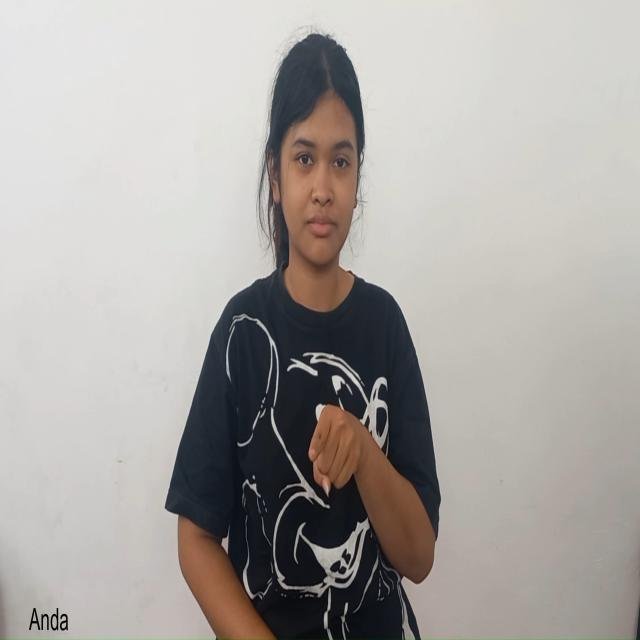Anda -BISINDO-: (272, 325, 408, 554)
